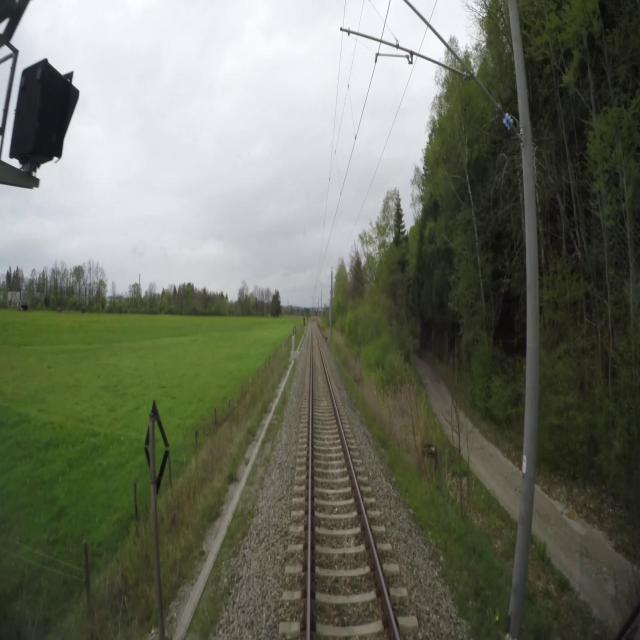rail-track: (311, 326, 395, 639)
